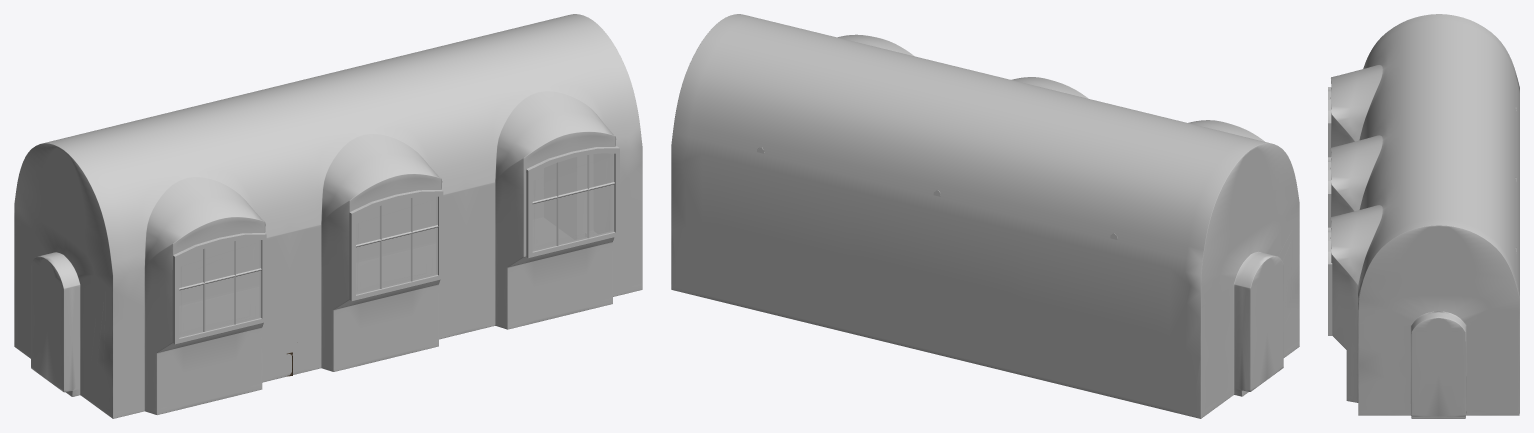
The picture shows the model from 3 angles, left to right: view 1: azimuth 30°, elevation 25°; view 2: azimuth 150°, elevation 25°; view 3: azimuth 270°, elevation 25°; orthographic projection. The views are drawn at different scales.
Visible parts, largest first — view 1: Walls, OldWindow; view 2: Walls; view 3: Walls, OldWindow.
Boxes of the visible parts, box(x1,y1,x2,y2) form: Walls: box(14, 14, 642, 418); OldWindow: box(172, 146, 619, 344); Walls: box(671, 14, 1299, 418); Walls: box(1330, 14, 1519, 418); OldWindow: box(1328, 87, 1332, 335).
Size of the model in its own units: 9.71 by 4.07 by 3.51.
